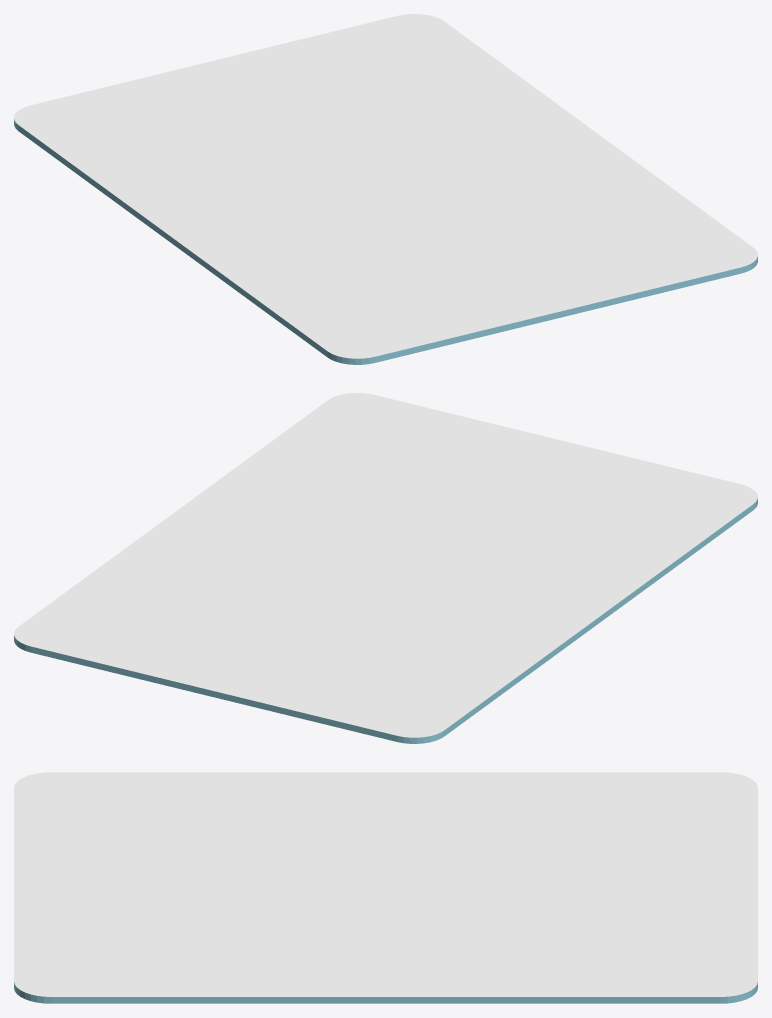
File: card_shatter_06.glb
The picture shows the model from 3 angles, top to bottom: view 1: azimuth 30°, elevation 25°; view 2: azimuth 150°, elevation 25°; view 3: azimuth 270°, elevation 25°; orthographic projection. The views are drawn at different scales.
Visible parts, largest first — view 1: V06_CardPiece_07, V06_CardPiece_10, V06_CardPiece_01, V06_CardPiece_04, V06_CardPiece_06, V06_CardPiece_02, V06_CardPiece_05, V06_CardPiece_03, V06_CardPiece_09, V06_CardPiece_08; view 2: V06_CardPiece_07, V06_CardPiece_10, V06_CardPiece_01, V06_CardPiece_04, V06_CardPiece_06, V06_CardPiece_09, V06_CardPiece_05, V06_CardPiece_02, V06_CardPiece_03, V06_CardPiece_08; view 3: V06_CardPiece_10, V06_CardPiece_07, V06_CardPiece_05, V06_CardPiece_04, V06_CardPiece_01, V06_CardPiece_09, V06_CardPiece_06, V06_CardPiece_02, V06_CardPiece_03, V06_CardPiece_08.
Part boxes in pixels (left/top/right/bottom): V06_CardPiece_07: left=14, top=49, right=289, bottom=162; V06_CardPiece_10: left=316, top=14, right=612, bottom=152; V06_CardPiece_01: left=179, top=210, right=361, bottom=361; V06_CardPiece_04: left=384, top=145, right=614, bottom=254; V06_CardPiece_06: left=38, top=139, right=306, bottom=248; V06_CardPiece_02: left=337, top=210, right=490, bottom=364; V06_CardPiece_05: left=587, top=146, right=757, bottom=298; V06_CardPiece_03: left=398, top=216, right=636, bottom=334; V06_CardPiece_09: left=262, top=36, right=512, bottom=165; V06_CardPiece_08: left=254, top=112, right=467, bottom=211; V06_CardPiece_07: left=166, top=625, right=463, bottom=743; V06_CardPiece_10: left=14, top=503, right=253, bottom=672; V06_CardPiece_01: left=451, top=498, right=757, bottom=618; V06_CardPiece_04: left=187, top=458, right=441, bottom=554; V06_CardPiece_06: left=405, top=582, right=604, bottom=721; V06_CardPiece_09: left=112, top=535, right=302, bottom=685; V06_CardPiece_05: left=190, top=393, right=478, bottom=501; V06_CardPiece_02: left=436, top=456, right=757, bottom=561; V06_CardPiece_03: left=425, top=420, right=624, bottom=545; V06_CardPiece_08: left=283, top=545, right=473, bottom=637; V06_CardPiece_10: left=355, top=938, right=757, bottom=1003; V06_CardPiece_07: left=509, top=772, right=757, bottom=909; V06_CardPiece_05: left=14, top=926, right=351, bottom=1003; V06_CardPiece_04: left=126, top=871, right=390, bottom=1003; V06_CardPiece_01: left=36, top=772, right=376, bottom=860; V06_CardPiece_09: left=387, top=886, right=757, bottom=952; V06_CardPiece_06: left=373, top=772, right=677, bottom=844; V06_CardPiece_02: left=14, top=773, right=341, bottom=872; V06_CardPiece_03: left=14, top=849, right=312, bottom=927; V06_CardPiece_08: left=335, top=840, right=601, bottom=928.
Bounding box in the file's own units: 0.429 × 0.006 × 0.6.
